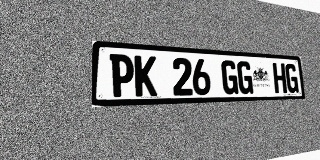2: (172, 57, 193, 96)
6: (192, 58, 211, 95)
G: (221, 60, 238, 94), (237, 61, 253, 94), (285, 63, 299, 93)
H: (272, 63, 287, 93)
K: (134, 55, 157, 97)
P: (110, 54, 134, 97)
